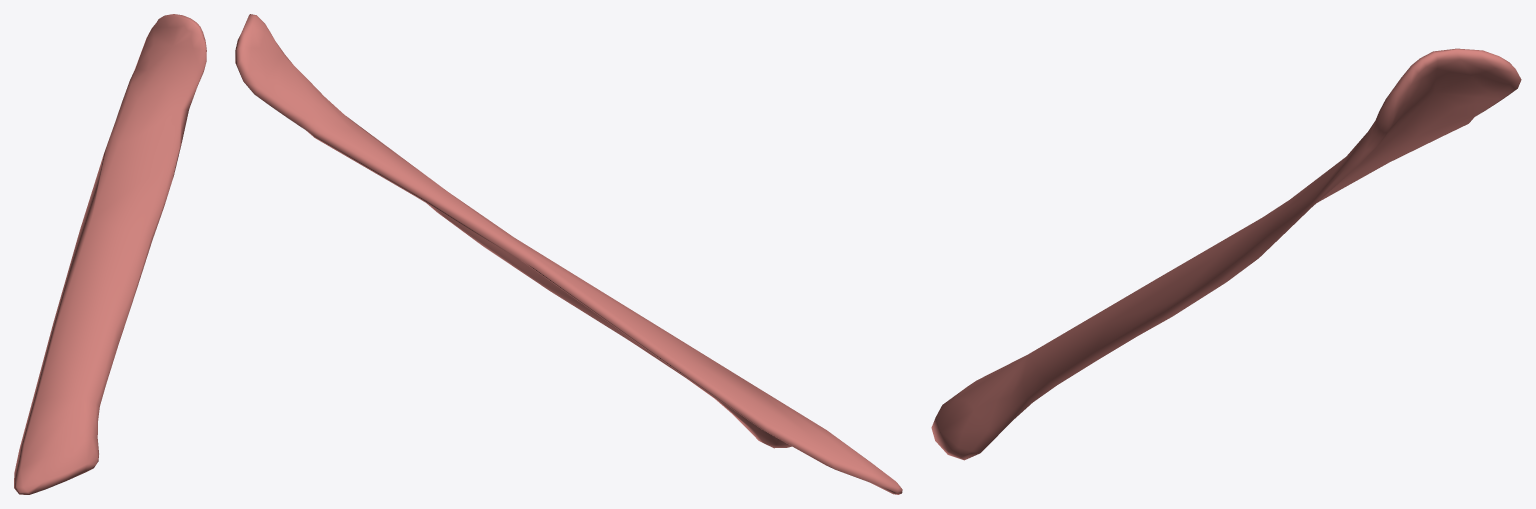
3 views of the same model, side by side, from view 1: azimuth 30°, elevation 25°; view 2: azimuth 150°, elevation 25°; view 3: azimuth 270°, elevation 25° (orthographic). The views are drawn at different scales.
Visible parts, largest first — view 1: ZA_5b4dd82634806f6a; view 2: ZA_5b4dd82634806f6a; view 3: ZA_5b4dd82634806f6a.
Boxes of the visible parts, left/top/right/bottom form: ZA_5b4dd82634806f6a: left=14, top=14, right=206, bottom=494; ZA_5b4dd82634806f6a: left=235, top=14, right=902, bottom=494; ZA_5b4dd82634806f6a: left=931, top=48, right=1521, bottom=460.
Bounding box in the file's own units: 0.0197 × 0.0202 × 0.0169.
